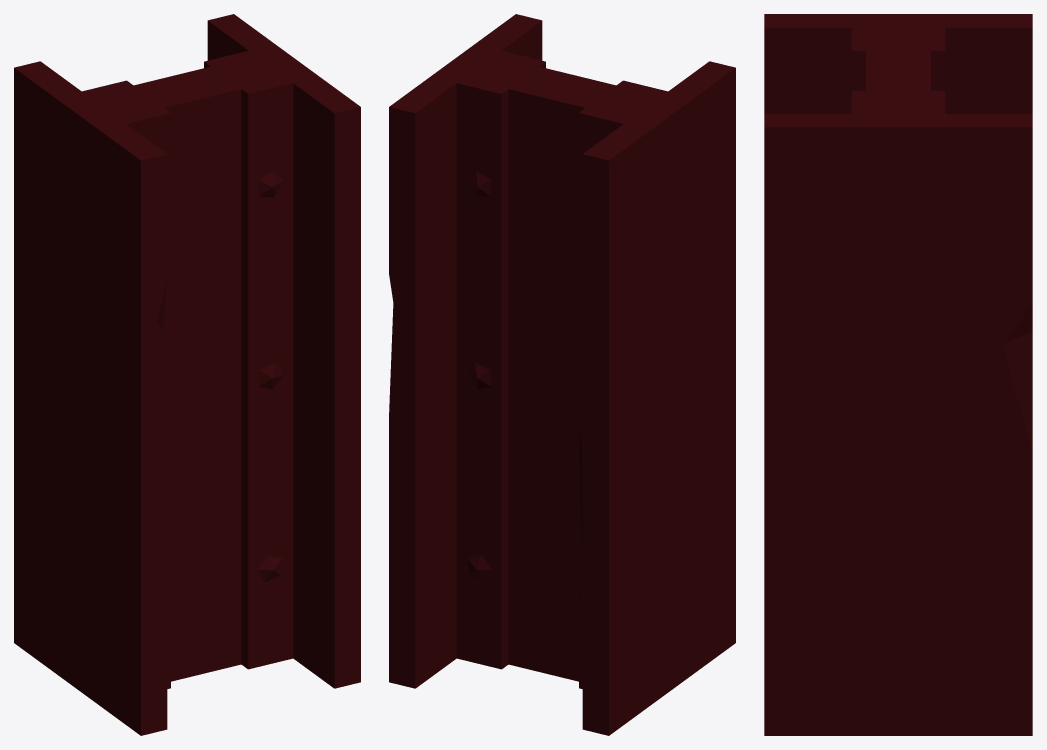
Rendered from SW_ENV_PillarGirderMid_1m_Drk.fbx.
The picture shows the model from 3 angles, left to right: view 1: azimuth 30°, elevation 25°; view 2: azimuth 150°, elevation 25°; view 3: azimuth 270°, elevation 25°; orthographic projection. The views are drawn at different scales.
Parts seen in each view (by area): view 1: SW_ENV_PillarGirderMid_1m_Drk; view 2: SW_ENV_PillarGirderMid_1m_Drk; view 3: SW_ENV_PillarGirderMid_1m_Drk.
Part boxes in pixels (<box>): SW_ENV_PillarGirderMid_1m_Drk: <box>14,14,360,735</box>; SW_ENV_PillarGirderMid_1m_Drk: <box>389,14,735,735</box>; SW_ENV_PillarGirderMid_1m_Drk: <box>764,14,1032,735</box>.
Bounding box in the file's own units: 40 × 100 × 40.
